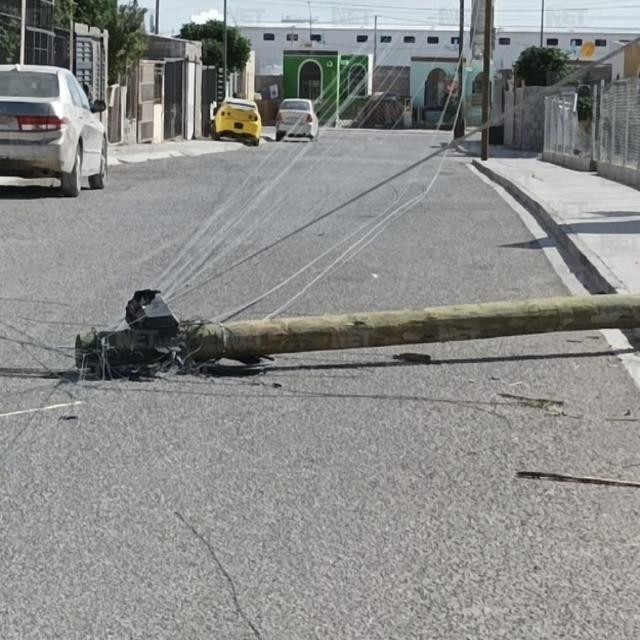Inclined Pole: (68, 273, 640, 397)
